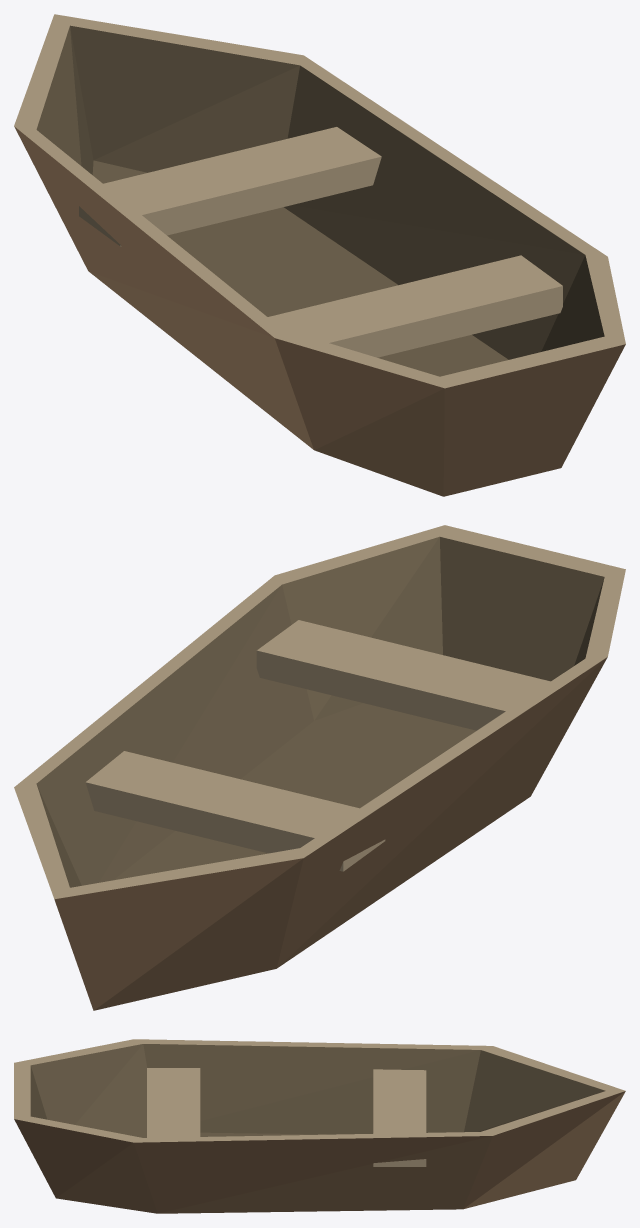
The model's file is qc_rowboat.obj.
3 views of the same model, one above another, from view 1: azimuth 30°, elevation 25°; view 2: azimuth 150°, elevation 25°; view 3: azimuth 270°, elevation 25° (orthographic). The views are drawn at different scales.
Parts seen in each view (by area): view 1: qc_rowboat; view 2: qc_rowboat; view 3: qc_rowboat.
Part boxes in pixels (x1,y1,x2,y2): qc_rowboat: (14,14,625,496); qc_rowboat: (14,525,625,1010); qc_rowboat: (14,1039,625,1213).
Size of the model in its own units: 0.92 by 0.37 by 2.3.
